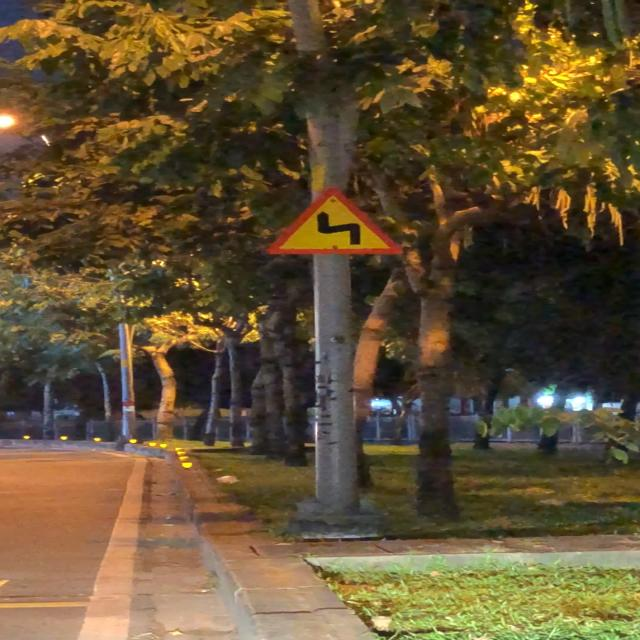Bien bao nhieu cho ngoat nguy hiem lien tiep: (266, 185, 416, 258)
